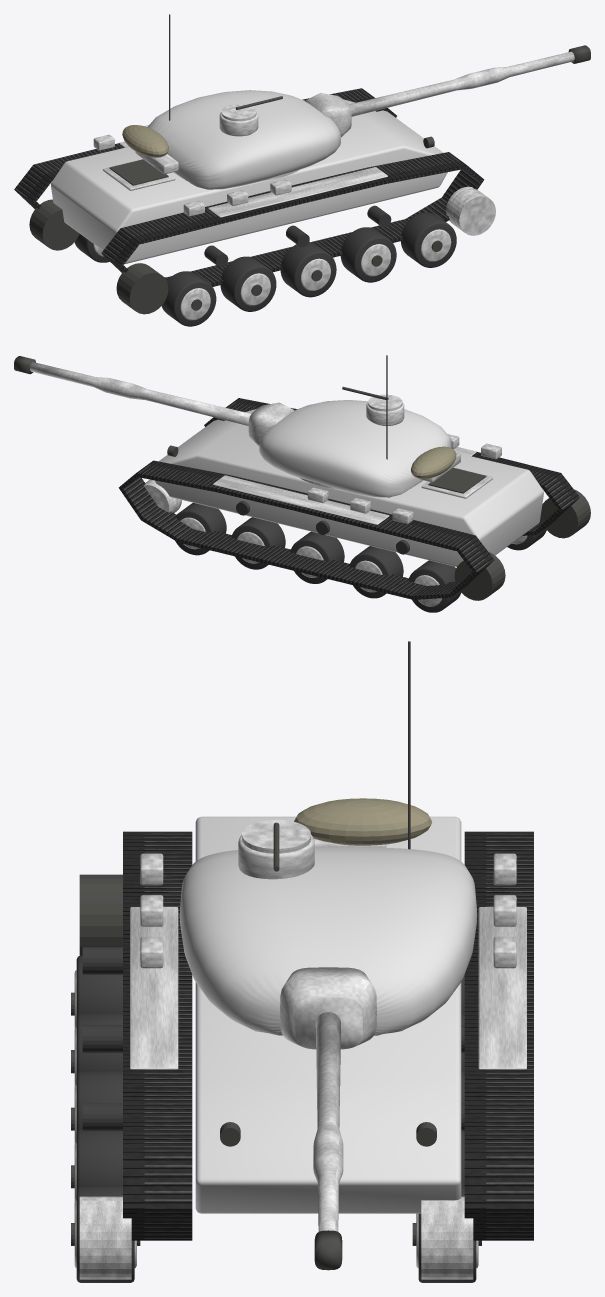
The model's file is tank.glb.
The picture shows the model from 3 angles, top to bottom: view 1: azimuth 30°, elevation 25°; view 2: azimuth 150°, elevation 25°; view 3: azimuth 270°, elevation 25°; orthographic projection. The views are drawn at different scales.
Visible parts, largest first — view 1: hull, wheels_L, turret, track_L, gun, wheels_R, track_R; view 2: hull, turret, track_R, wheels_R, gun, track_L, wheels_L; view 3: hull, turret, wheels_L, track_L, track_R, gun, wheels_R.
Boxes of the visible parts, x1=… form: hull: x1=51, y1=99, x2=447, y2=264; wheels_L: x1=116, y1=186, x2=495, y2=326; turret: x1=122, y1=14, x2=340, y2=189; track_L: x1=101, y1=152, x2=484, y2=286; gun: x1=305, y1=45, x2=590, y2=137; wheels_R: x1=29, y1=199, x2=109, y2=262; track_R: x1=14, y1=88, x2=396, y2=208; hull: x1=154, y1=409, x2=543, y2=566; turret: x1=259, y1=355, x2=460, y2=497; track_R: x1=118, y1=460, x2=494, y2=599; wheels_R: x1=144, y1=479, x2=505, y2=612; gun: x1=14, y1=356, x2=294, y2=445; track_L: x1=204, y1=398, x2=579, y2=535; wheels_L: x1=507, y1=489, x2=590, y2=550; hull: x1=130, y1=816, x2=526, y2=1213; turret: x1=179, y1=641, x2=477, y2=1035; wheels_L: x1=71, y1=874, x2=140, y2=1282; track_L: x1=123, y1=831, x2=192, y2=1240; track_R: x1=464, y1=831, x2=533, y2=1240; gun: x1=280, y1=967, x2=376, y2=1270; wheels_R: x1=412, y1=975, x2=481, y2=1282.
Size of the model in its own units: 10.23 by 4.42 by 4.01.
Materials: 5 (2 with a texture image).
